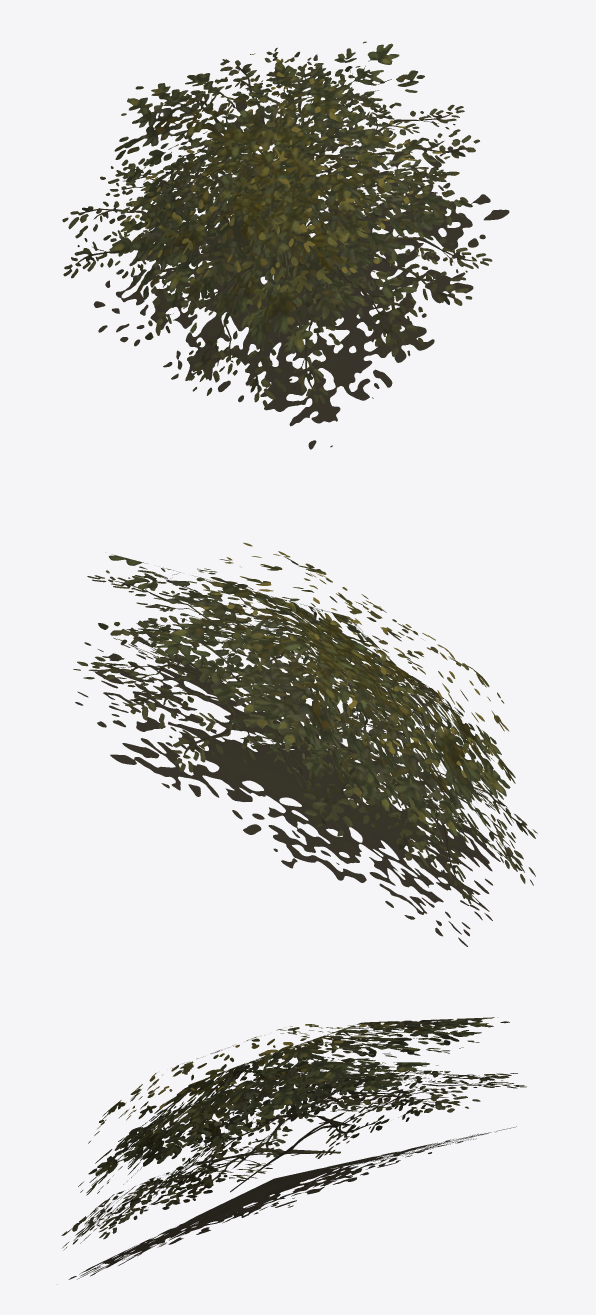
Rendered from plants_bushes09.fbx.
3 renders of one model, top to bottom at view 1: azimuth 30°, elevation 25°; view 2: azimuth 150°, elevation 25°; view 3: azimuth 270°, elevation 25°, orthographic. The views are drawn at different scales.
Parts seen in each view (by area): view 1: Material_#6642/bush_1; view 2: Material_#6642/bush_1; view 3: Material_#6642/bush_1.
Part boxes in pixels (box(x1,y1,x2,y2)): Material_#6642/bush_1: box(62, 41, 509, 449); Material_#6642/bush_1: box(73, 542, 537, 946); Material_#6642/bush_1: box(61, 1017, 526, 1279).
Bounding box in the file's own units: 5.18 × 3.58 × 5.12.
